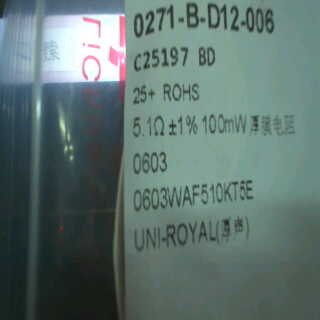5.1R: (128, 114, 167, 140)
